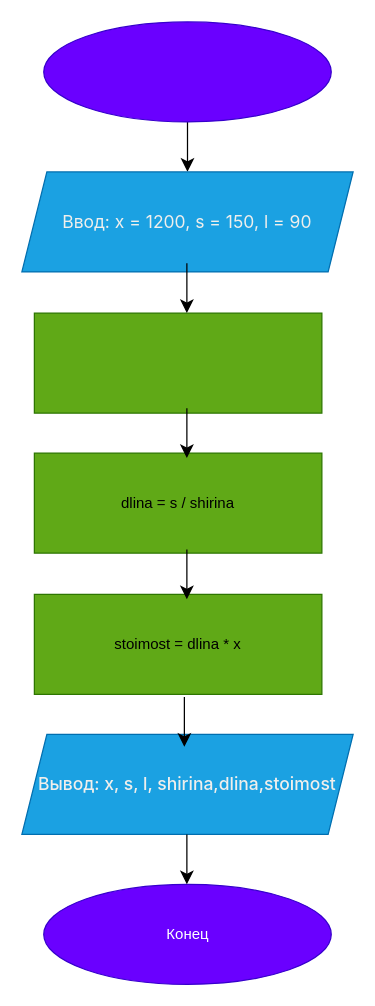
The diagram is 375 pixels wide and 1006 high, and some of its shapes have lost their labels. Each missing label, with the box of its shape:
shirina = l / 100: (33, 312, 322, 413)
Начало: (42, 21, 331, 122)
